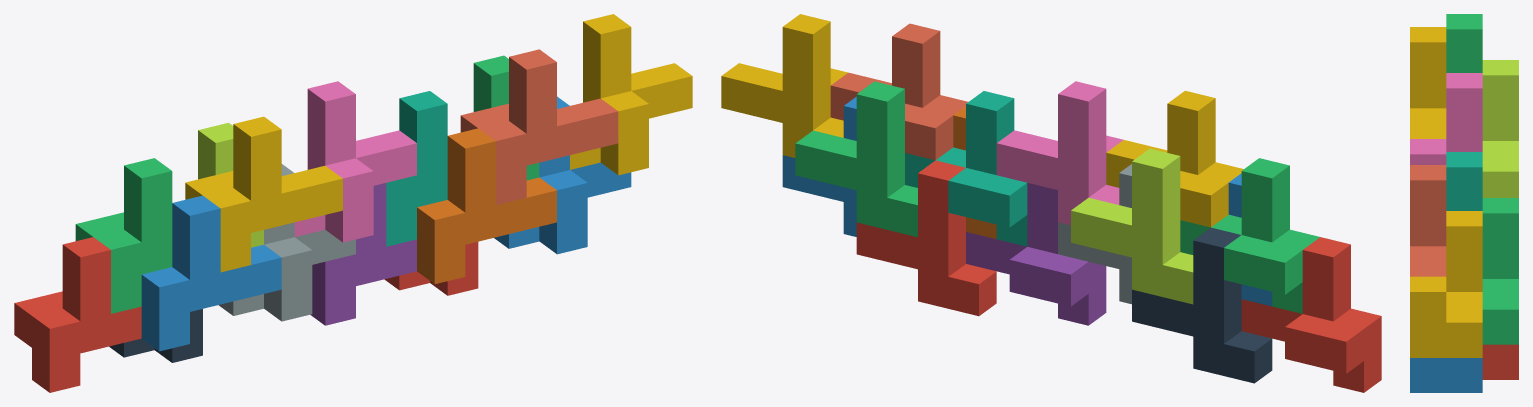
File: tiling.obj
3 views of the same model, side by side, from view 1: azimuth 30°, elevation 25°; view 2: azimuth 150°, elevation 25°; view 3: azimuth 270°, elevation 25° (orthographic). The views are drawn at different scales.
Parts seen in each view (by area): view 1: copy_1_domain_4, copy_1_domain_8, copy_1_domain_2, copy_1_domain_6, copy_1_domain_1, copy_2_domain_4, copy_2_domain_8, copy_1_domain_3, copy_1_domain_7, copy_1_domain_5, copy_2_domain_2, copy_2_domain_6 (+4 smaller); view 2: copy_1_domain_1, copy_2_domain_3, copy_2_domain_7, copy_2_domain_1, copy_2_domain_5, copy_1_domain_3, copy_2_domain_4, copy_2_domain_8, copy_1_domain_5, copy_1_domain_7, copy_1_domain_8, copy_1_domain_4 (+4 smaller); view 3: copy_2_domain_8, copy_2_domain_7, copy_2_domain_3, copy_1_domain_4, copy_1_domain_8, copy_2_domain_4, copy_2_domain_6, copy_1_domain_3, copy_1_domain_7, copy_2_domain_5.
Part boxes in pixels (x1,y1,x2,y2): copy_1_domain_4: [185, 116, 342, 272]; copy_1_domain_8: [460, 49, 618, 205]; copy_1_domain_2: [141, 195, 281, 351]; copy_1_domain_6: [417, 128, 556, 283]; copy_1_domain_1: [14, 237, 141, 392]; copy_2_domain_4: [294, 81, 416, 242]; copy_2_domain_8: [570, 14, 692, 175]; copy_1_domain_3: [75, 158, 172, 313]; copy_1_domain_7: [386, 91, 447, 246]; copy_1_domain_5: [310, 183, 416, 325]; copy_2_domain_2: [218, 164, 355, 321]; copy_2_domain_6: [494, 96, 631, 254]; copy_1_domain_1: [1241, 237, 1381, 392]; copy_2_domain_3: [1071, 148, 1193, 304]; copy_2_domain_7: [795, 81, 917, 237]; copy_2_domain_1: [1132, 227, 1272, 383]; copy_2_domain_5: [856, 160, 996, 316]; copy_1_domain_3: [1180, 158, 1319, 313]; copy_2_domain_4: [996, 81, 1123, 225]; copy_2_domain_8: [721, 14, 847, 157]; copy_1_domain_5: [966, 183, 1106, 325]; copy_1_domain_7: [905, 91, 1027, 246]; copy_1_domain_8: [830, 23, 967, 160]; copy_1_domain_4: [1106, 90, 1243, 227]; copy_2_domain_8: [1410, 211, 1482, 357]; copy_2_domain_7: [1482, 198, 1518, 344]; copy_2_domain_3: [1482, 60, 1518, 197]; copy_1_domain_4: [1410, 27, 1446, 138]; copy_1_domain_8: [1410, 165, 1446, 276]; copy_2_domain_4: [1410, 73, 1482, 164]; copy_2_domain_6: [1410, 358, 1482, 392]; copy_1_domain_3: [1446, 14, 1482, 72]; copy_1_domain_7: [1446, 152, 1482, 210]; copy_2_domain_5: [1482, 344, 1518, 379].
Bounding box in the file's own units: 21 × 7 × 3.
